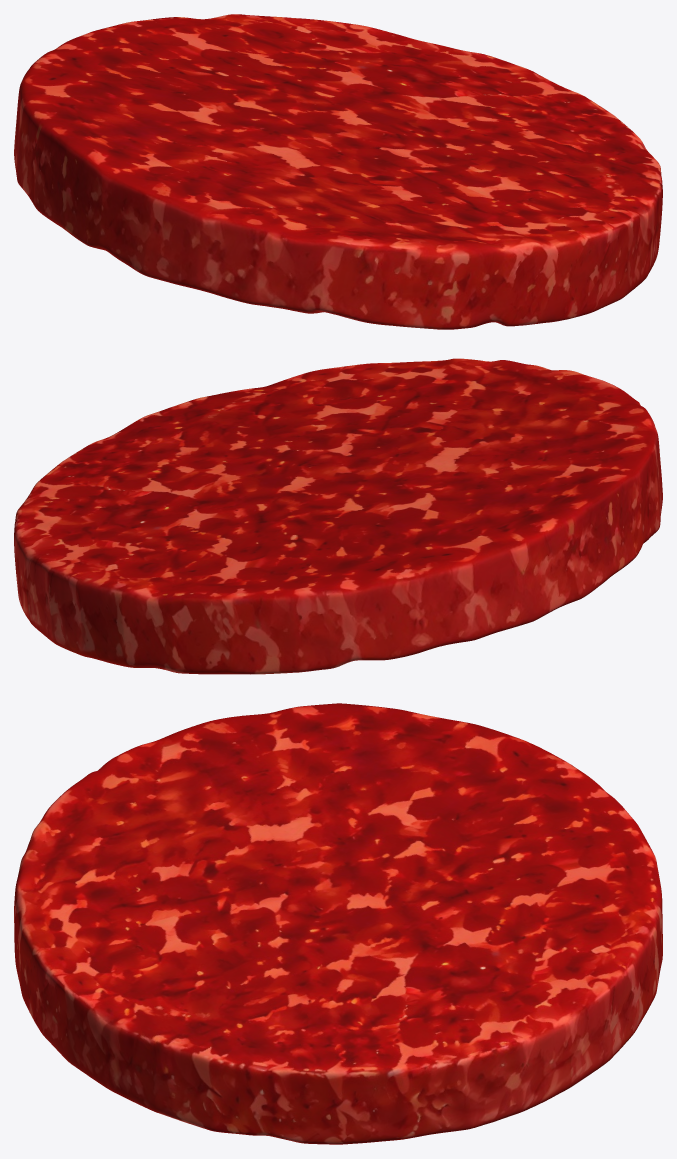
Rendered from tripo_convert_15a205a3-f1fe-4b55-829d-34f73ec96768.fbx.
3 renders of one model, top to bottom at view 1: azimuth 30°, elevation 25°; view 2: azimuth 150°, elevation 25°; view 3: azimuth 270°, elevation 25°, orthographic.
Visible parts, largest first — view 1: tripo_node_15a205a3; view 2: tripo_node_15a205a3; view 3: tripo_node_15a205a3.
Part boxes in pixels (left/top/right/bottom): tripo_node_15a205a3: left=14, top=14, right=662, bottom=329; tripo_node_15a205a3: left=14, top=358, right=662, bottom=674; tripo_node_15a205a3: left=14, top=703, right=662, bottom=1144.
Bounding box in the file's own units: 0.987 × 0.3067 × 1.
